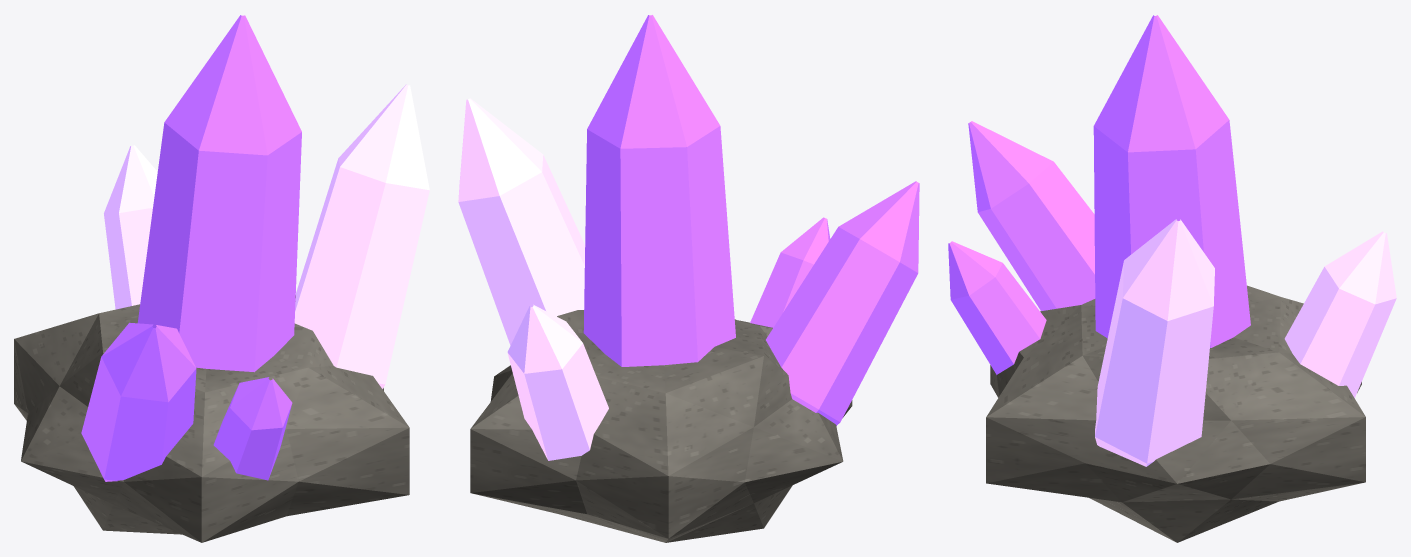
File: amethyst.glb
3 renders of one model, left to right at view 1: azimuth 30°, elevation 25°; view 2: azimuth 150°, elevation 25°; view 3: azimuth 270°, elevation 25°, orthographic. The views are drawn at different scales.
Visible parts, largest first — view 1: amethyst; view 2: amethyst; view 3: amethyst.
Part boxes in pixels (bbox=[...]): amethyst: bbox=[14, 15, 429, 542]; amethyst: bbox=[458, 15, 919, 542]; amethyst: bbox=[948, 15, 1396, 542].
Size of the model in its own units: 0.2083 by 0.2449 by 0.2044.
3 materials, 1 textured.
